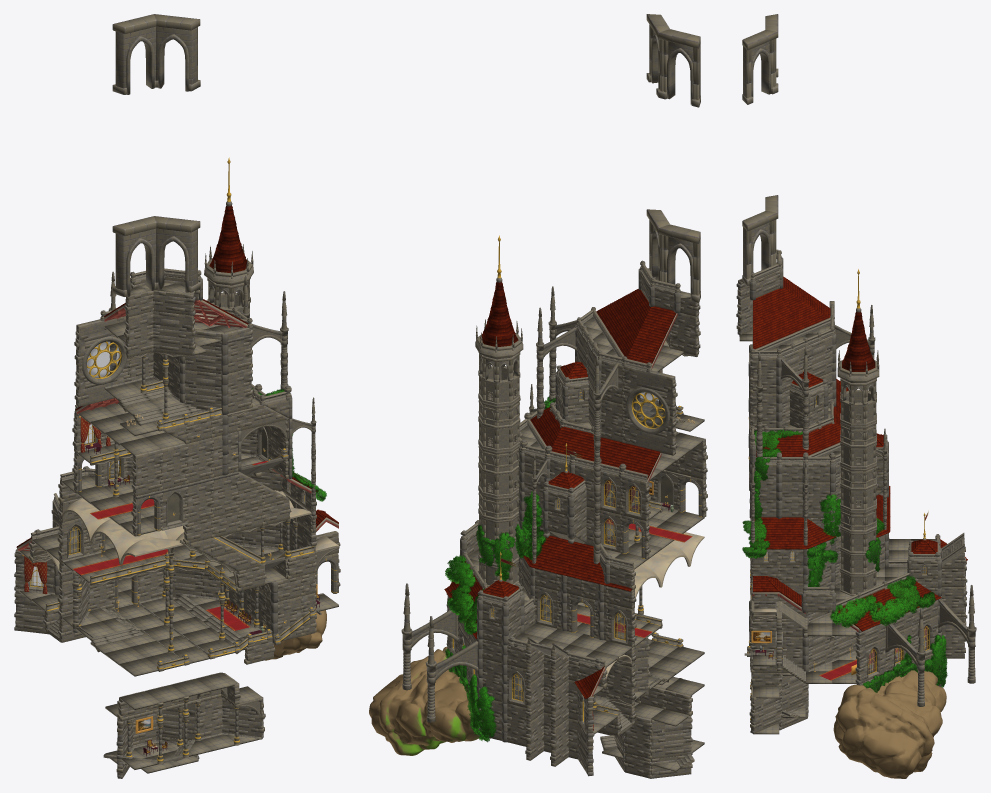
File: cell_x-1_z0_render.gltf
3 views of the same model, side by side, from view 1: azimuth 30°, elevation 25°; view 2: azimuth 150°, elevation 25°; view 3: azimuth 270°, elevation 25° (orthographic). The views are drawn at different scales.
Visible parts, largest first — view 1: SM_MOD_wall_huge_window_round_castle_LOD0.001, SM_MOD_tower_part_arch_castle_LOD0.031, SM_MOD_tower_part_arch_castle_LOD0.009, SM_MOD_tower_part_arch_castle_LOD0.066, SM_MOD_tower_part_arch_castle_LOD0.075, SM_MOD_wall_big_diagonal_castle_LOD0.027, SM_MOD_tower_roof_castle_LOD0.006, SM_MOD_wall_big_diagonal_castle_LOD0.046, SM_MOD_wall_big_castle_LOD0.305, SM_MOD_wall_big_diagonal_castle_LOD0.017, SM_MOD_wall_big_castle_LOD0.253, SM_MOD_wall_big_castle_LOD0.256 (+28 smaller); view 2: SM_ENV_cliff_castle_02_LOD0.013, SM_MOD_wall_huge_window_round_castle_LOD0.001, SM_MOD_tower_part_arch_castle_LOD0.031, SM_MOD_tower_part_arch_castle_LOD0.009, SM_MOD_deco_flying_buttress_castle_LOD0.006, SM_MOD_deco_flying_buttress_castle_LOD0.033, SM_MOD_wall_big_diagonal_castle_LOD0.063, SM_MOD_tower_roof_castle_LOD0.006, SM_MOD_tower_segment_window_castle_LOD0.023, SM_MOD_wall_big_windows_castle_LOD0.022, SM_MOD_wall_big_windows_castle_LOD0.017, SM_MOD_tower_part_arch_castle_LOD0.066 (+46 smaller); view 3: SM_ENV_cliff_castle_02_LOD0.013, SM_MOD_tower_part_arch_castle_LOD0.066, SM_MOD_tower_part_arch_castle_LOD0.075, SM_MOD_deco_flying_buttress_castle_LOD0.006, SM_MOD_deco_flying_buttress_castle_LOD0.033, SM_MOD_tower_roof_castle_LOD0.006, SM_MOD_wall_big_diagonal_window_castle_LOD0.017, SM_MOD_tower_segment_window_castle_LOD0.023, SM_MOD_wall_big_diagonal_castle_LOD0.017, SM_ENV_bush_castle_08_LOD0.026, SM_ENV_bush_castle_08_LOD0.028, SM_MOD_wall_big_diagonal_castle_LOD0.086 (+39 smaller).
Boxes of the visible parts, left/top/right/bottom form: SM_MOD_wall_huge_window_round_castle_LOD0.001: left=74, top=316, right=131, bottom=406; SM_MOD_tower_part_arch_castle_LOD0.031: left=112, top=14, right=156, bottom=94; SM_MOD_tower_part_arch_castle_LOD0.009: left=112, top=216, right=156, bottom=296; SM_MOD_tower_part_arch_castle_LOD0.066: left=154, top=14, right=200, bottom=91; SM_MOD_tower_part_arch_castle_LOD0.075: left=154, top=216, right=200, bottom=292; SM_MOD_wall_big_diagonal_castle_LOD0.027: left=153, top=311, right=196, bottom=355; SM_MOD_tower_roof_castle_LOD0.006: left=209, top=205, right=248, bottom=273; SM_MOD_wall_big_diagonal_castle_LOD0.046: left=185, top=370, right=221, bottom=410; SM_MOD_wall_big_castle_LOD0.305: left=131, top=449, right=163, bottom=496; SM_MOD_wall_big_diagonal_castle_LOD0.017: left=222, top=697, right=265, bottom=738; SM_MOD_wall_big_castle_LOD0.253: left=124, top=311, right=153, bottom=357; SM_MOD_wall_big_castle_LOD0.256: left=159, top=443, right=188, bottom=489; SM_ENV_cliff_castle_02_LOD0.013: left=369, top=646, right=479, bottom=755; SM_MOD_wall_huge_window_round_castle_LOD0.001: left=622, top=366, right=677, bottom=455; SM_MOD_tower_part_arch_castle_LOD0.031: left=658, top=29, right=700, bottom=107; SM_MOD_tower_part_arch_castle_LOD0.009: left=658, top=224, right=700, bottom=302; SM_MOD_deco_flying_buttress_castle_LOD0.006: left=401, top=583, right=458, bottom=690; SM_MOD_deco_flying_buttress_castle_LOD0.033: left=425, top=616, right=478, bottom=722; SM_MOD_wall_big_diagonal_castle_LOD0.063: left=649, top=716, right=692, bottom=758; SM_MOD_tower_roof_castle_LOD0.006: left=480, top=282, right=518, bottom=346; SM_MOD_tower_segment_window_castle_LOD0.023: left=478, top=366, right=520, bottom=405; SM_MOD_wall_big_windows_castle_LOD0.022: left=620, top=476, right=650, bottom=521; SM_MOD_wall_big_windows_castle_LOD0.017: left=605, top=603, right=636, bottom=647; SM_MOD_tower_part_arch_castle_LOD0.066: left=646, top=14, right=669, bottom=97; SM_ENV_cliff_castle_02_LOD0.013: left=833, top=670, right=946, bottom=778; SM_MOD_tower_part_arch_castle_LOD0.066: left=742, top=30, right=777, bottom=104; SM_MOD_tower_part_arch_castle_LOD0.075: left=742, top=211, right=777, bottom=285; SM_MOD_deco_flying_buttress_castle_LOD0.006: left=885, top=608, right=925, bottom=706; SM_MOD_deco_flying_buttress_castle_LOD0.033: left=938, top=585, right=976, bottom=683; SM_MOD_tower_roof_castle_LOD0.006: left=842, top=312, right=875, bottom=371; SM_MOD_wall_big_diagonal_window_castle_LOD0.017: left=855, top=637, right=888, bottom=684; SM_MOD_tower_segment_window_castle_LOD0.023: left=840, top=389, right=876, bottom=426; SM_MOD_wall_big_diagonal_castle_LOD0.017: left=749, top=687, right=782, bottom=734; SM_ENV_bush_castle_08_LOD0.026: left=869, top=595, right=917, bottom=626; SM_ENV_bush_castle_08_LOD0.028: left=830, top=594, right=876, bottom=627; SM_MOD_wall_big_diagonal_castle_LOD0.086: left=806, top=335, right=832, bottom=377.
Bounding box in the file's own units: 43.51 × 113 × 36.36.
18 materials, 17 textured.
